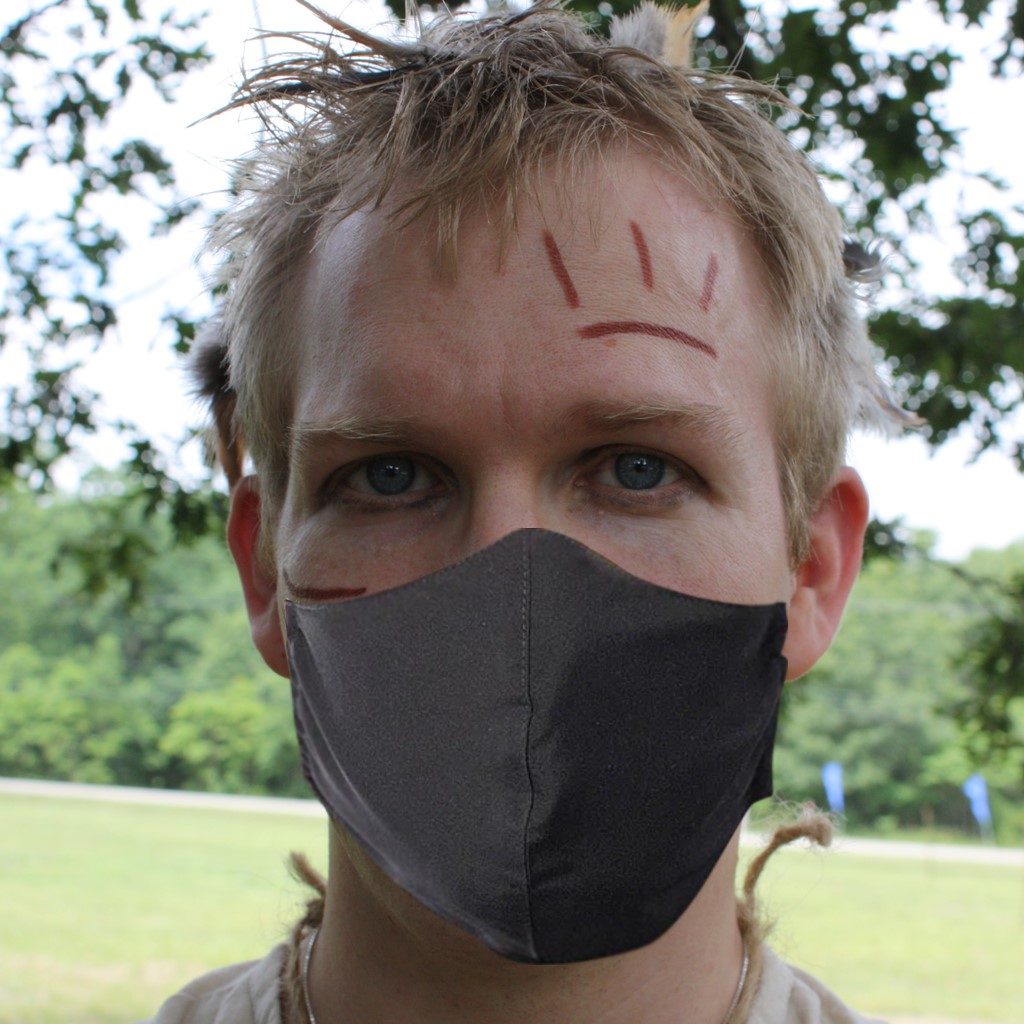con_mascara: (275, 140, 794, 952)
